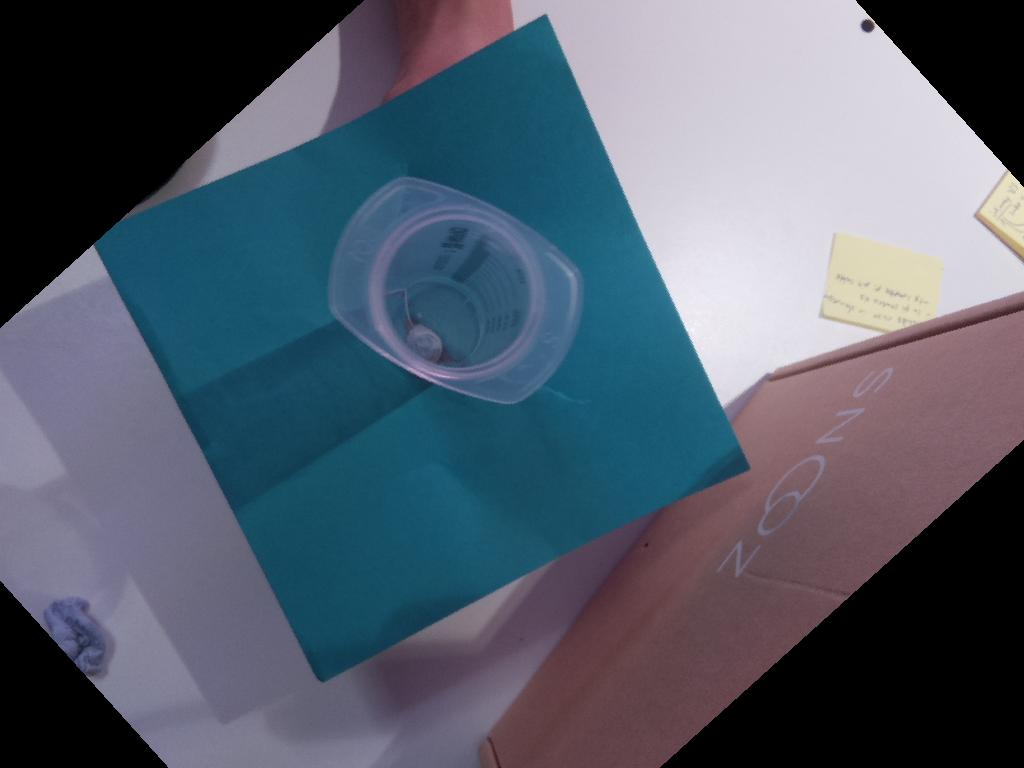clean: (327, 176, 587, 406)
